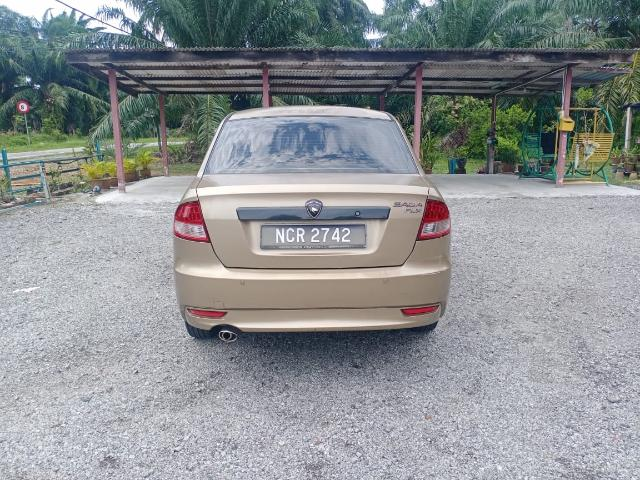License_Plate: (261, 227, 367, 248)
